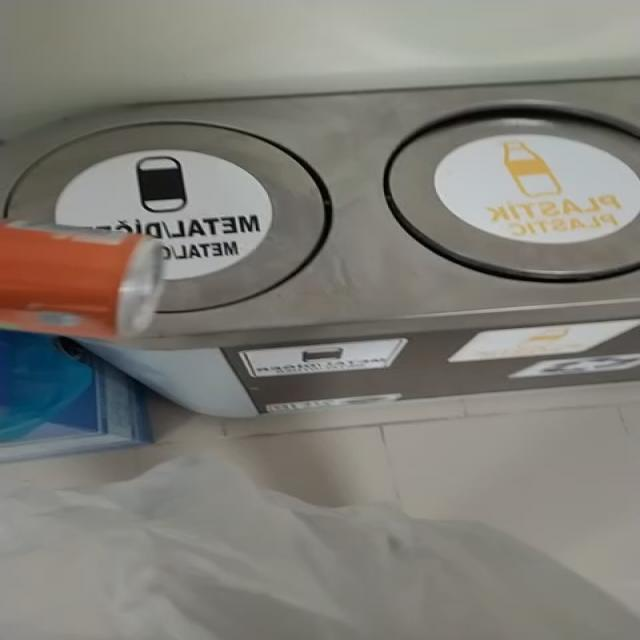bin: (1, 78, 637, 417)
metal: (0, 223, 161, 338)
